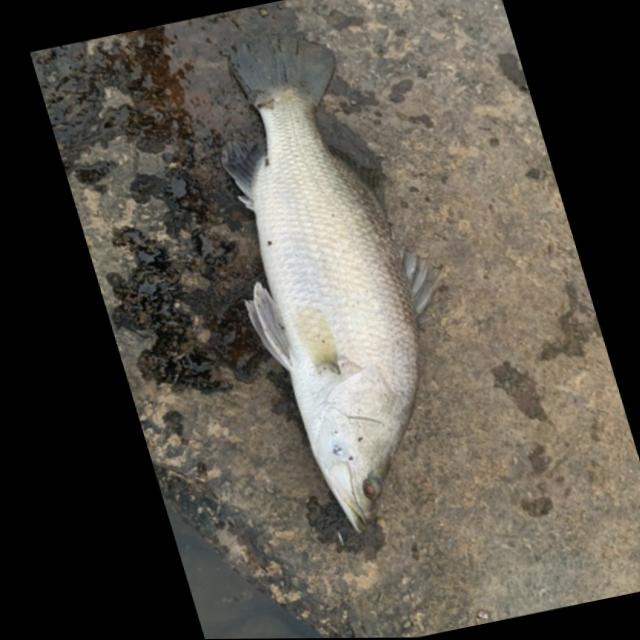Seabass: (166, 18, 515, 541)
